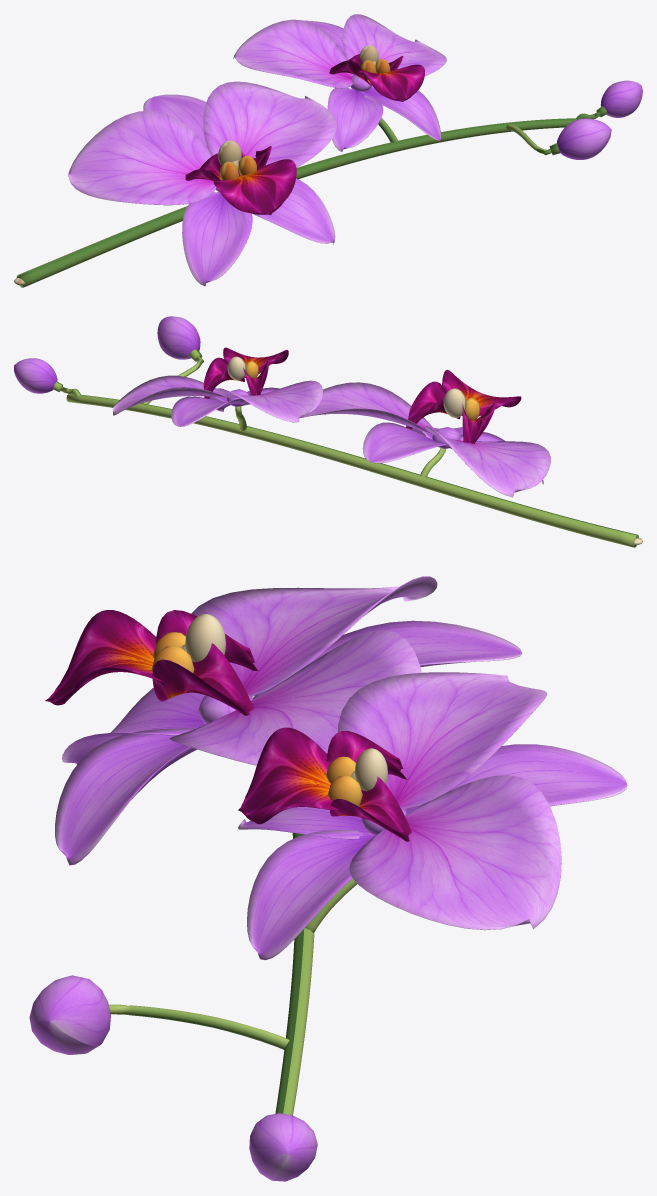
Rendered from NP_Orchid_Harvest.fbx.
The picture shows the model from 3 angles, top to bottom: view 1: azimuth 30°, elevation 25°; view 2: azimuth 150°, elevation 25°; view 3: azimuth 270°, elevation 25°; orthographic projection. The views are drawn at different scales.
Parts seen in each view (by area): view 1: NP_Orchid_Harvest; view 2: NP_Orchid_Harvest; view 3: NP_Orchid_Harvest.
Part boxes in pixels (box(x1,y1,x2,y2)): NP_Orchid_Harvest: box(14, 14, 642, 287); NP_Orchid_Harvest: box(14, 316, 642, 547); NP_Orchid_Harvest: box(29, 576, 627, 1181).
Bounding box in the file's own units: 94.99 × 18.7 × 39.79.
